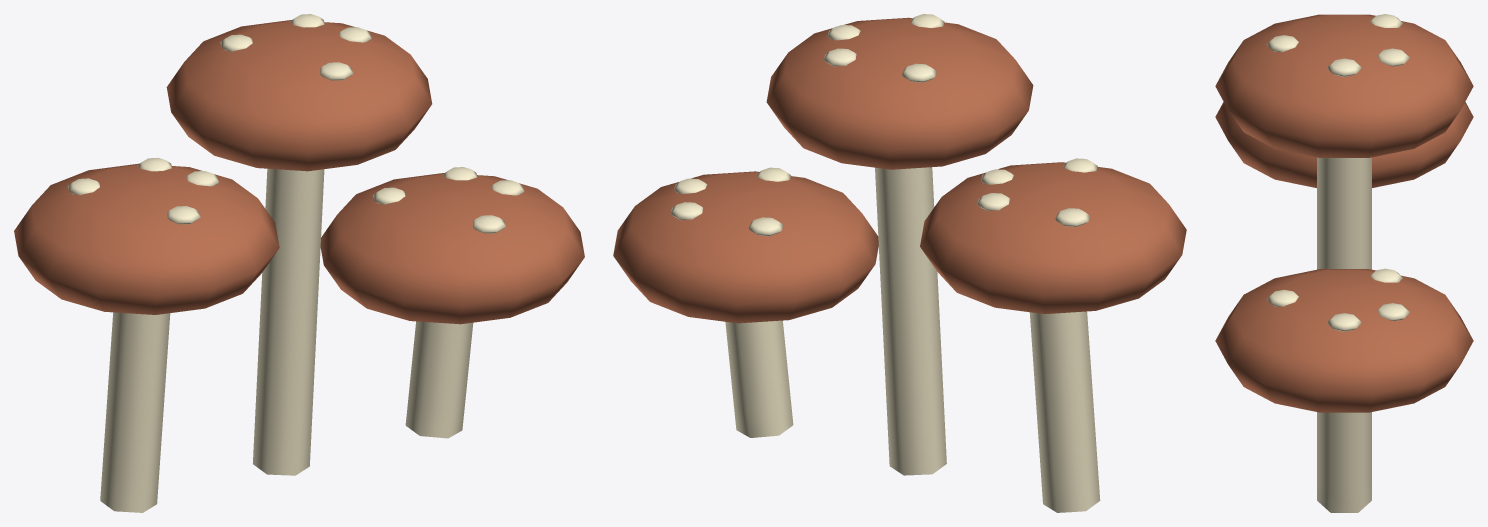
The model's file is mushroom_patch.glb.
The picture shows the model from 3 angles, left to right: view 1: azimuth 30°, elevation 25°; view 2: azimuth 150°, elevation 25°; view 3: azimuth 270°, elevation 25°; orthographic projection. The views are drawn at different scales.
Parts seen in each view (by area): view 1: MushroomCluster; view 2: MushroomCluster; view 3: MushroomCluster.
Boxes of the visible parts, left/top/right/bottom form: MushroomCluster: left=14, top=14, right=584, bottom=512; MushroomCluster: left=613, top=14, right=1186, bottom=512; MushroomCluster: left=1215, top=14, right=1473, bottom=512.
Bounding box in the file's own units: 0.732 × 0.5532 × 0.32.
